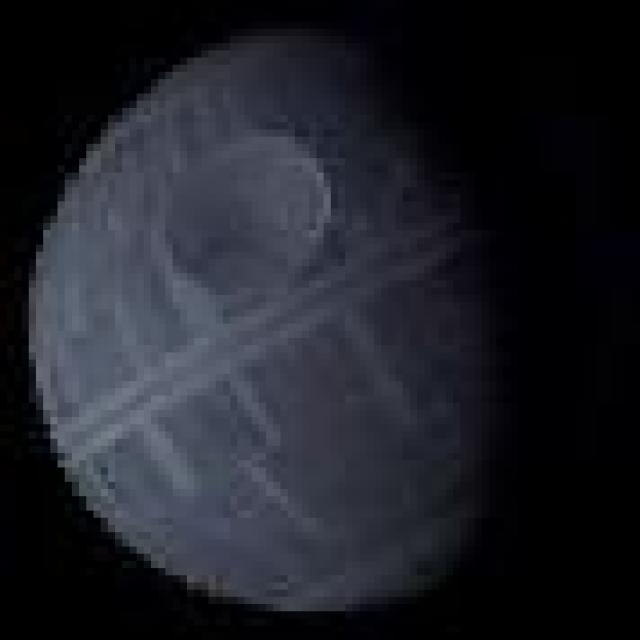Death Star: (14, 21, 503, 618)
